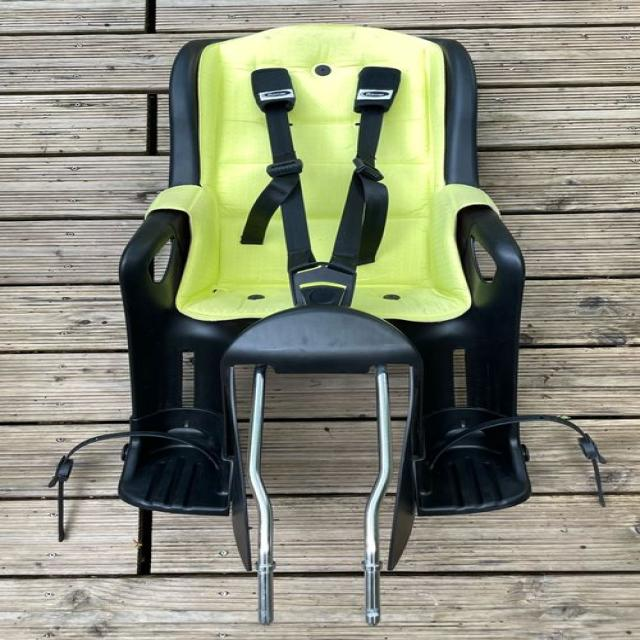childseat: (101, 19, 551, 606)
